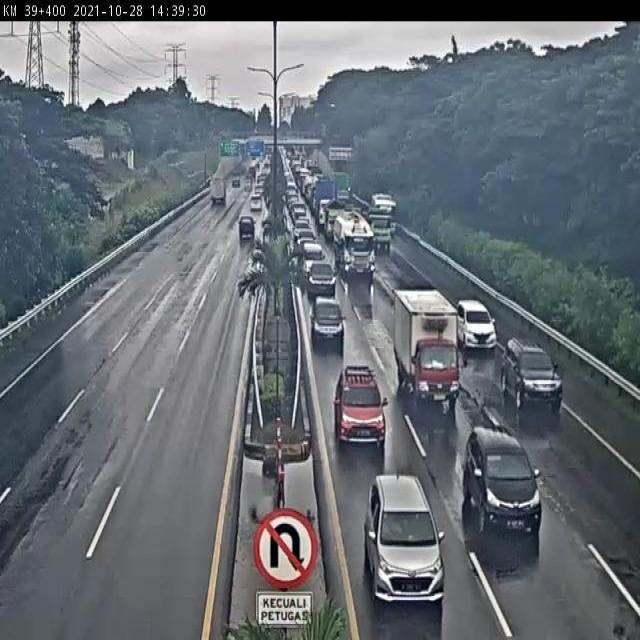car: (362, 467, 449, 615), (464, 427, 547, 539), (500, 331, 564, 411), (331, 362, 391, 446), (451, 289, 495, 351), (309, 284, 346, 349), (309, 263, 335, 299), (301, 244, 324, 276), (238, 215, 255, 239)
truck: (388, 291, 467, 420), (332, 209, 376, 280), (365, 200, 394, 253)
